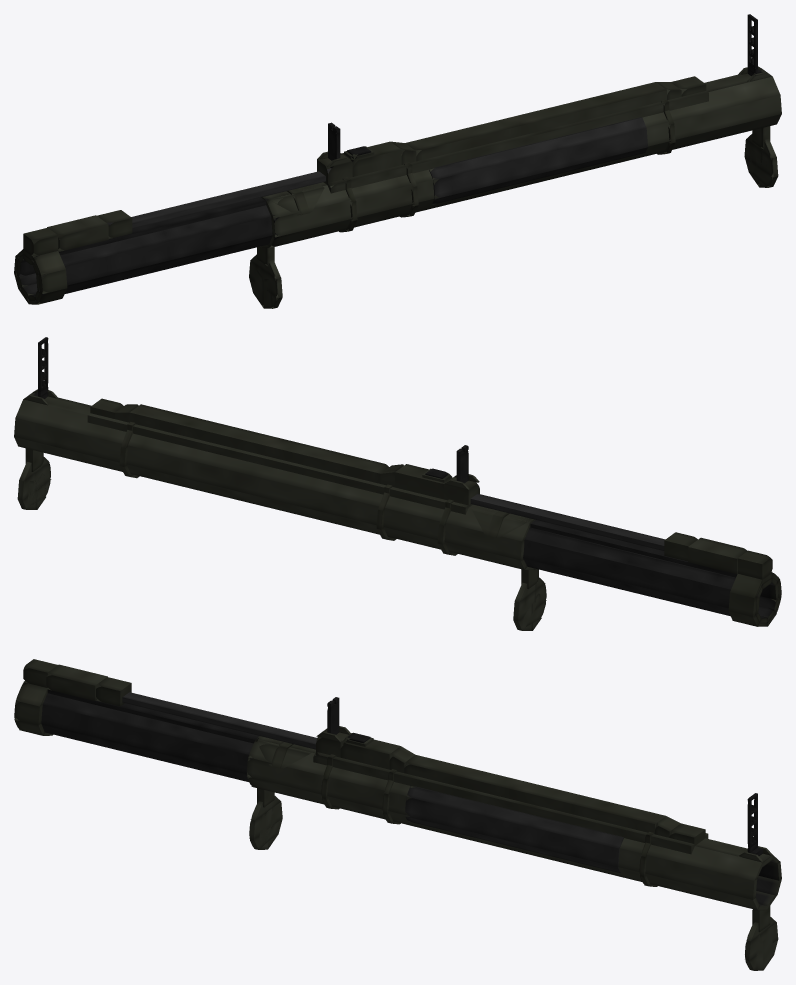
The model's file is rpg18.obj.
3 renders of one model, top to bottom at view 1: azimuth 30°, elevation 25°; view 2: azimuth 150°, elevation 25°; view 3: azimuth 330°, elevation 25°, orthographic.
Parts seen in each view (by area): view 1: gunModel0, gunModel28, gunModel77, gunModel44, gunModel23, gunModel4, gunModel3, gunModel78, gunModel20, gunModel29, gunModel25, gunModel47 (+10 smaller); view 2: gunModel1, gunModel5, gunModel28, gunModel2, gunModel24, gunModel44, gunModel19, gunModel29, gunModel26, gunModel47, gunModel59, gunModel42 (+7 smaller); view 3: gunModel0, gunModel28, gunModel77, gunModel44, gunModel23, gunModel4, gunModel3, gunModel78, gunModel20, gunModel29, gunModel25, gunModel47 (+10 smaller).
Boxes of the visible parts, <box> form: gunModel0: <box>271,95,781,237</box>; gunModel28: <box>405,82,666,161</box>; gunModel77: <box>433,128,647,199</box>; gunModel44: <box>324,88,708,193</box>; gunModel23: <box>36,216,275,291</box>; gunModel4: <box>266,76,780,218</box>; gunModel3: <box>269,114,781,247</box>; gunModel78: <box>429,117,646,179</box>; gunModel20: <box>33,205,270,274</box>; gunModel29: <box>107,168,331,228</box>; gunModel25: <box>35,235,276,300</box>; gunModel47: <box>36,197,266,256</box>; gunModel1: <box>14,418,524,560</box>; gunModel5: <box>15,399,529,541</box>; gunModel28: <box>129,404,388,483</box>; gunModel2: <box>14,437,527,569</box>; gunModel24: <box>523,539,759,614</box>; gunModel44: <box>87,413,472,514</box>; gunModel19: <box>525,528,762,597</box>; gunModel29: <box>470,493,665,550</box>; gunModel26: <box>523,558,760,623</box>; gunModel47: <box>530,520,737,577</box>; gunModel59: <box>688,537,747,573</box>; gunModel42: <box>395,464,452,499</box>; gunModel0: <box>247,755,757,899</box>; gunModel28: <box>404,754,665,834</box>; gunModel77: <box>405,796,619,867</box>; gunModel44: <box>313,752,708,854</box>; gunModel23: <box>20,702,252,773</box>; gunModel4: <box>248,739,762,880</box>; gunModel3: <box>247,776,759,910</box>; gunModel78: <box>406,786,623,848</box>; gunModel20: <box>43,693,253,754</box>; gunModel29: <box>122,692,317,749</box>; gunModel25: <box>18,720,248,781</box>; gunModel47: <box>47,689,258,743</box>.
Size of the model in its own units: 30.2 by 6.7 by 2.3.
